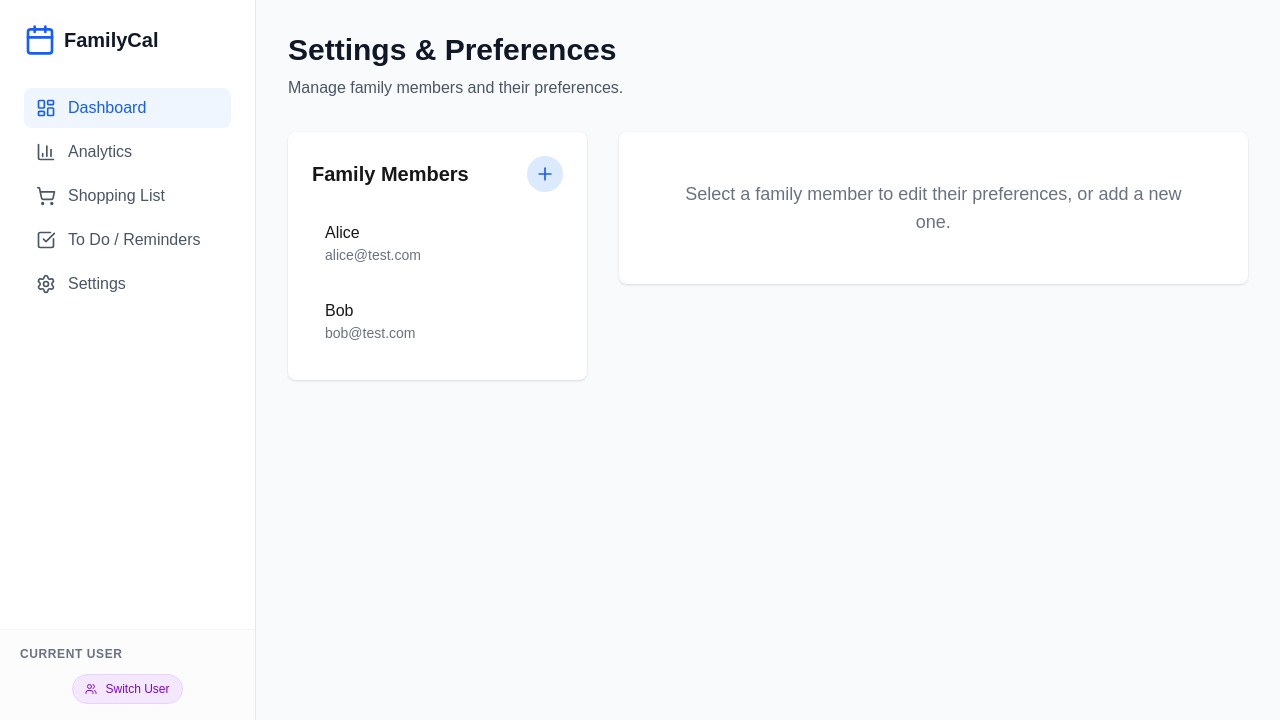
Test case: SettingsPage › opens edit form when clicking a user
This screenshot has width=1280, height=720.
Click the text "Alice" at point(342, 232), box [325, 224, 360, 241]
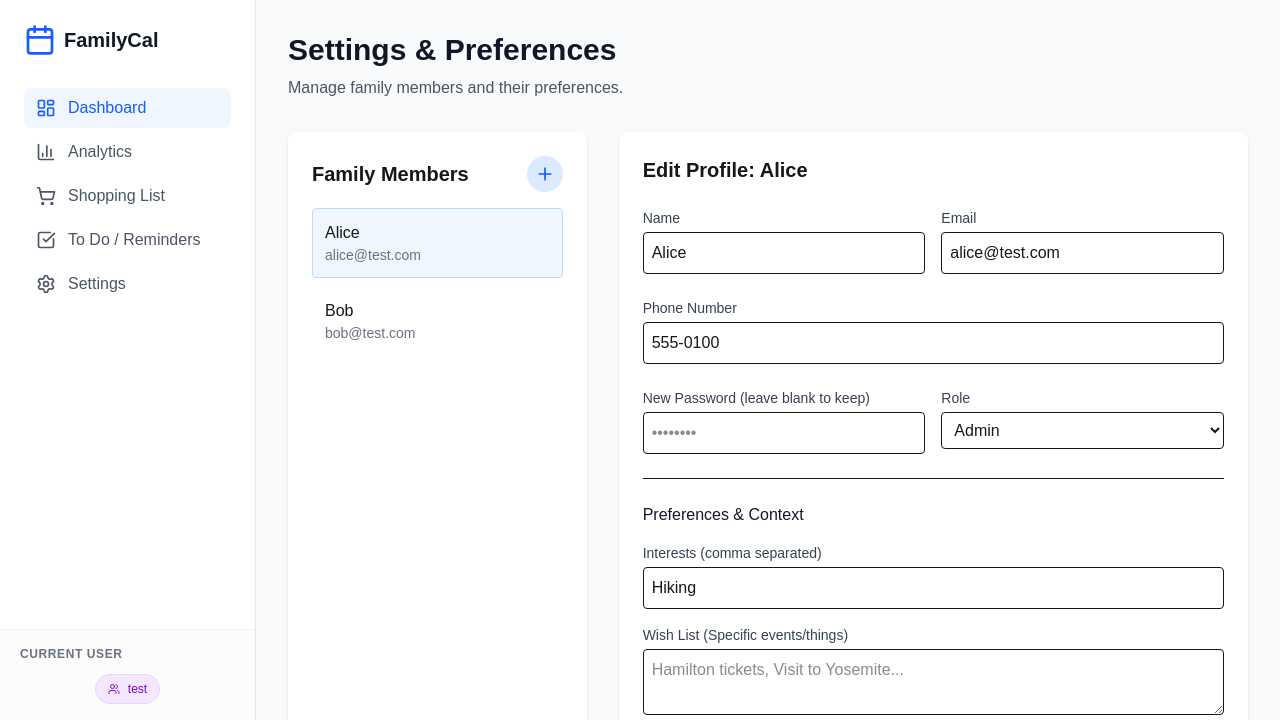
Expected: the heading "Edit Profile: Alice" is shown, [643, 159, 808, 181]
Expected: the field showing "Alice" below "Name" is shown, [643, 232, 925, 274]
Expected: the field showing "alice@test.com" below "Email" is shown, [941, 232, 1224, 274]
